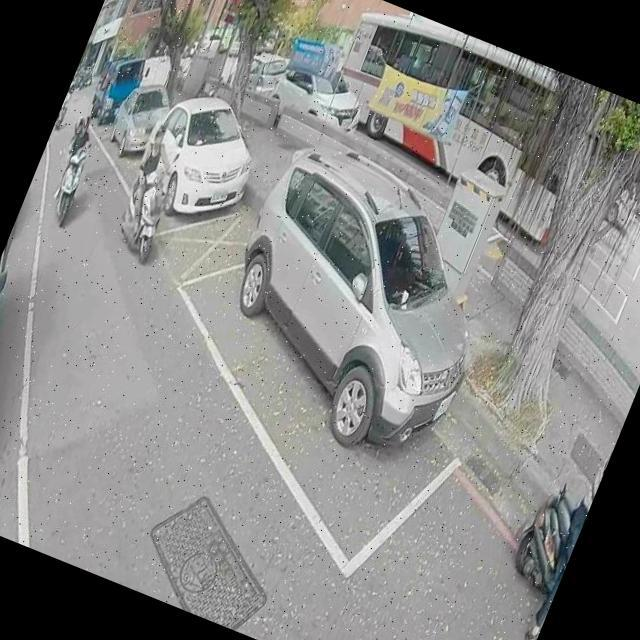person: (513, 418, 622, 640), (115, 117, 190, 240), (48, 109, 102, 203), (51, 113, 98, 194), (61, 82, 78, 111)
